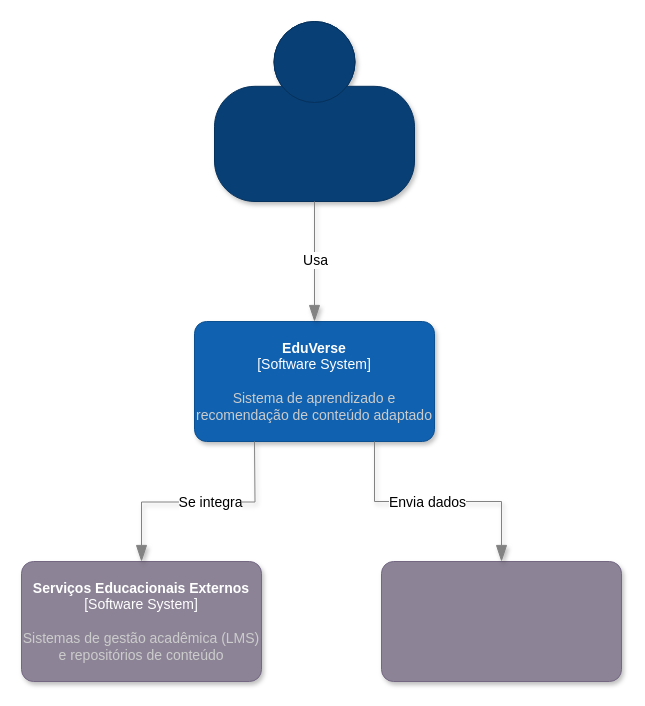
Image size: 645x706. Some labels were removed from this diagram. The shapes that lost their labels are listed below. From the top down, each one's centre as x and y in pixels, then its label:
At point (315, 112): "Usuário [Person] Usuário que interage com o sistema".
At point (502, 622): "Serviço de IA [Software System] Motor de recomendação e adaptação de conteúdo".
